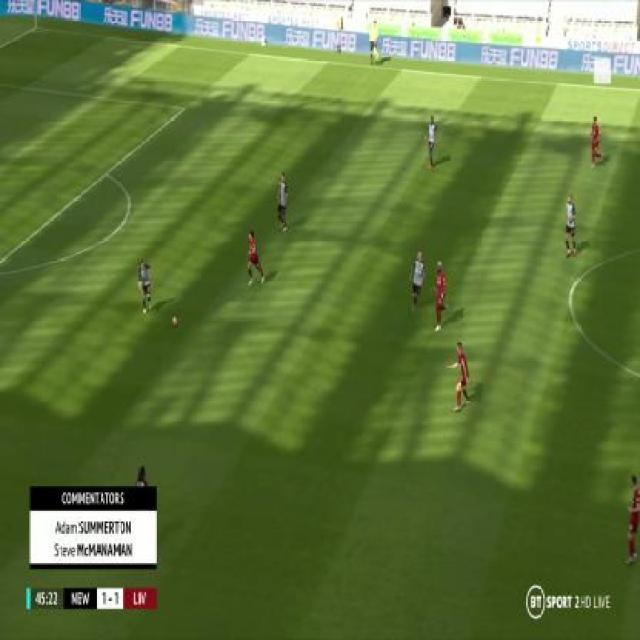ball: (172, 314, 180, 327)
player: (448, 343, 473, 414), (623, 472, 640, 571), (432, 261, 451, 334), (136, 256, 156, 316), (408, 251, 427, 314), (246, 229, 265, 289), (563, 192, 579, 260), (275, 172, 291, 237), (588, 114, 604, 173), (424, 114, 440, 173), (367, 16, 384, 70), (134, 462, 150, 490)
